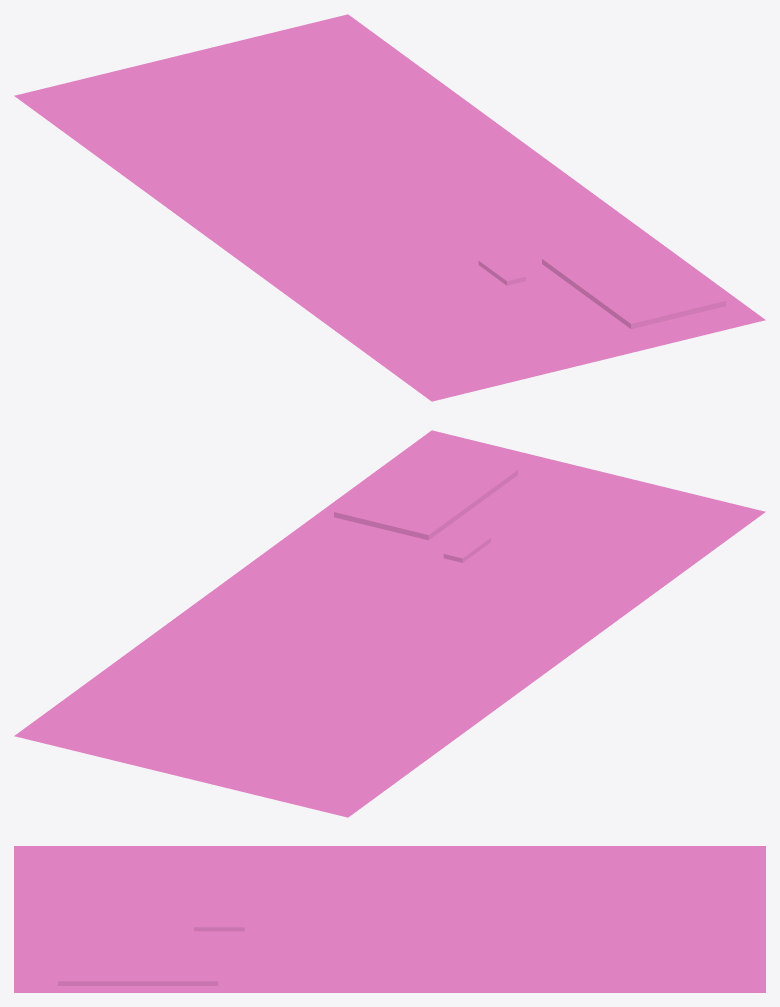
Rendered from InstitutoNavMesh2.4.glb.
3 renders of one model, top to bottom at view 1: azimuth 30°, elevation 25°; view 2: azimuth 150°, elevation 25°; view 3: azimuth 270°, elevation 25°, orthographic. The views are drawn at different scales.
Visible parts, largest first — view 1: navmesh; view 2: navmesh; view 3: navmesh.
Part boxes in pixels (x1,y1,x2,y2): navmesh: (14,14,765,401); navmesh: (14,430,765,817); navmesh: (14,846,765,992).
Size of the model in its own units: 23.66 by 0.3559 by 51.24.
